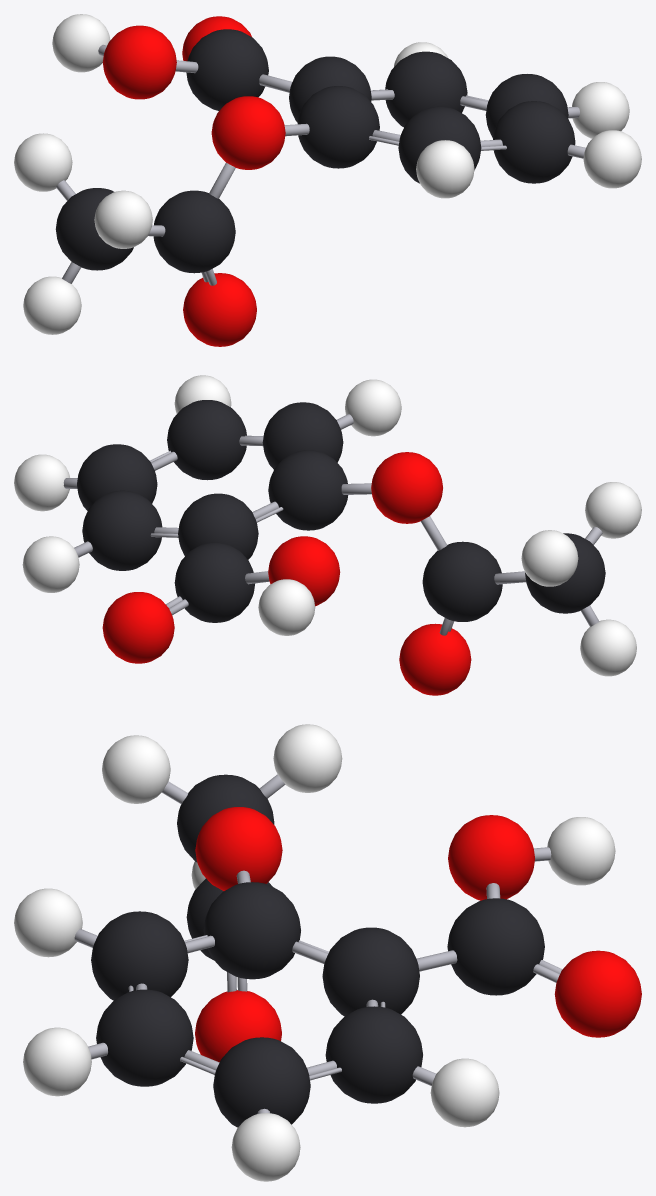
The model's file is aspirin.glb.
3 renders of one model, top to bottom at view 1: azimuth 30°, elevation 25°; view 2: azimuth 150°, elevation 25°; view 3: azimuth 270°, elevation 25°, orthographic. The views are drawn at different scales.
Visible parts, largest first — view 1: C1, C6, C4, C10, O12, O3, O2, C8, C0, C5, H16, H17 (+8 smaller); view 2: C1, C6, C8, C4, C10, O11, O3, O2, C9, C5, C7, O12 (+9 smaller); view 3: C10, C4, C6, C8, C9, C5, C7, O11, O12, O3, O2, H17 (+8 smaller).
Boxes of the visible parts, x1=… form: C1: x1=153, y1=190, x2=235, y2=273; C6: x1=493, y1=101, x2=575, y2=183; C4: x1=297, y1=86, x2=379, y2=168; C10: x1=186, y1=29, x2=268, y2=110; O12: x1=102, y1=25, x2=176, y2=99; O3: x1=211, y1=96, x2=285, y2=169; O2: x1=183, y1=273, x2=256, y2=346; C8: x1=385, y1=51, x2=467, y2=127; C0: x1=55, y1=188, x2=133, y2=270; C5: x1=398, y1=106, x2=481, y2=183; H16: x1=416, y1=140, x2=474, y2=198; H17: x1=583, y1=130, x2=641, y2=188; C1: x1=422, y1=541, x2=502, y2=621; C6: x1=167, y1=400, x2=246, y2=480; C8: x1=82, y1=490, x2=162, y2=570; C4: x1=268, y1=450, x2=348, y2=530; C10: x1=174, y1=542, x2=255, y2=622; O11: x1=102, y1=592, x2=174, y2=663; O3: x1=371, y1=452, x2=442, y2=523; O2: x1=399, y1=623, x2=471, y2=695; C9: x1=178, y1=493, x2=258, y2=559; C5: x1=262, y1=402, x2=343, y2=469; C7: x1=77, y1=444, x2=157, y2=510; O12: x1=268, y1=536, x2=340, y2=606; C10: x1=447, y1=898, x2=544, y2=995; C4: x1=203, y1=882, x2=300, y2=979; C6: x1=96, y1=989, x2=193, y2=1086; C8: x1=325, y1=1006, x2=422, y2=1103; C9: x1=322, y1=927, x2=419, y2=1016; C5: x1=91, y1=911, x2=188, y2=1000; C7: x1=213, y1=1037, x2=310, y2=1127; O11: x1=554, y1=950, x2=641, y2=1037; O12: x1=448, y1=815, x2=534, y2=900; O3: x1=195, y1=807, x2=282, y2=890; O2: x1=195, y1=990, x2=281, y2=1062; H17: x1=23, y1=1027, x2=91, y2=1096.
Bounding box in the file's own units: 8.74 × 3.22 × 6.56.
